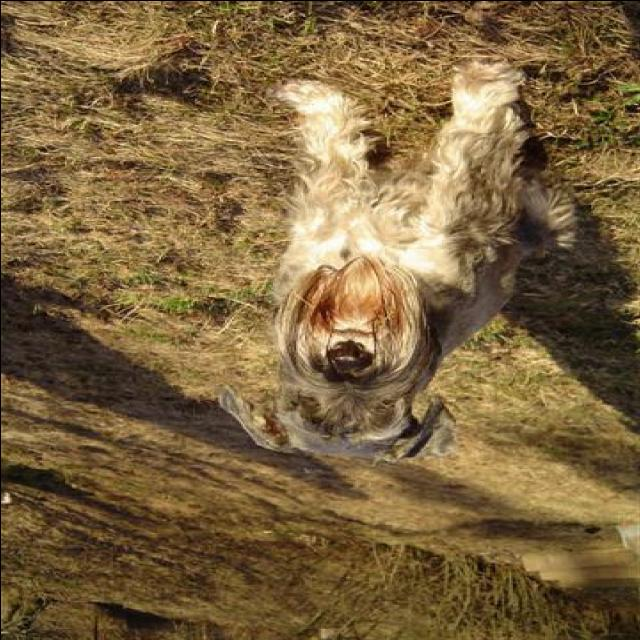standard_schnauzer: (212, 56, 584, 463)
